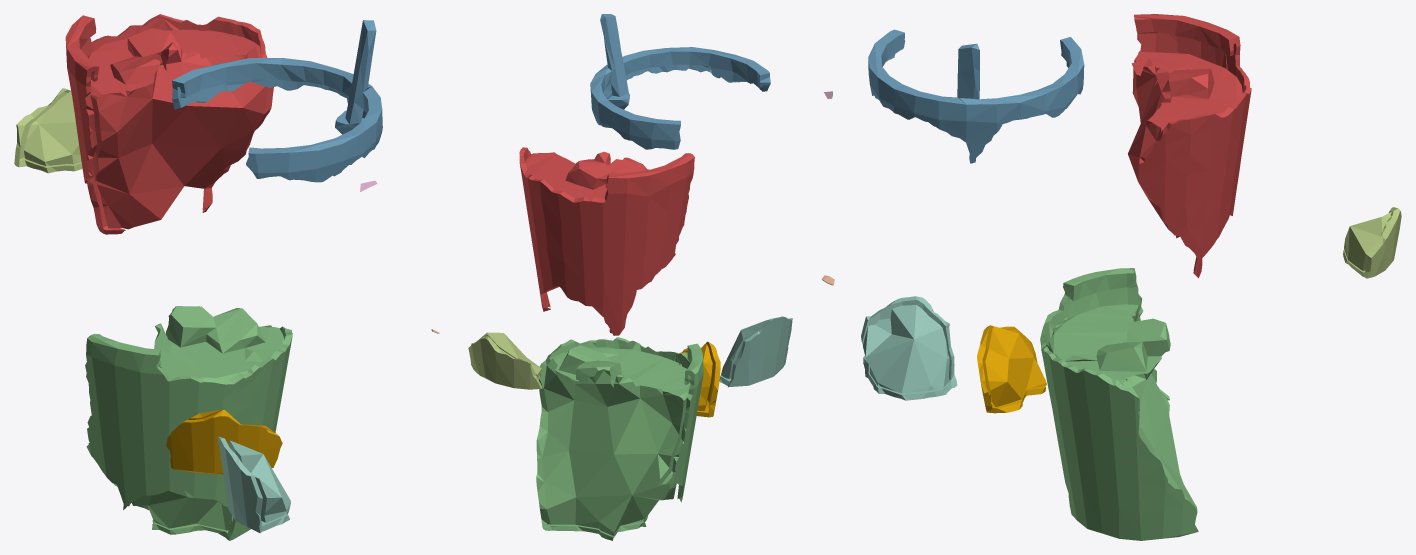
Rendered from mode_13_8pcs_transformed.glb.
The picture shows the model from 3 angles, left to right: view 1: azimuth 30°, elevation 25°; view 2: azimuth 150°, elevation 25°; view 3: azimuth 270°, elevation 25°; orthographic projection. The views are drawn at different scales.
Visible parts, largest first — view 1: piece_1.obj, piece_3.obj, piece_2.obj, piece_0.obj, piece_4.obj, piece_5.obj; view 2: piece_3.obj, piece_1.obj, piece_2.obj, piece_4.obj, piece_5.obj, piece_0.obj; view 3: piece_3.obj, piece_1.obj, piece_2.obj, piece_4.obj, piece_0.obj, piece_5.obj.
Boxes of the visible parts, x1,y1,x2,y2 form: piece_1.obj: (65,14,273,234); piece_3.obj: (85,306,292,540); piece_2.obj: (172,20,382,182); piece_0.obj: (166,409,282,474); piece_4.obj: (217,436,290,533); piece_5.obj: (14,88,82,173); piece_3.obj: (536,337,703,540); piece_1.obj: (519,147,694,335); piece_2.obj: (590,14,770,149); piece_4.obj: (719,316,792,387); piece_5.obj: (468,332,542,389); piece_0.obj: (679,341,720,417); piece_3.obj: (1040,268,1198,540); piece_1.obj: (1128,14,1251,278); piece_2.obj: (868,29,1084,163); piece_4.obj: (861,296,957,400); piece_0.obj: (977,325,1046,413); piece_5.obj: (1343,207,1401,278).
Size of the model in its own units: 0.782 by 1.99 by 2.06.
